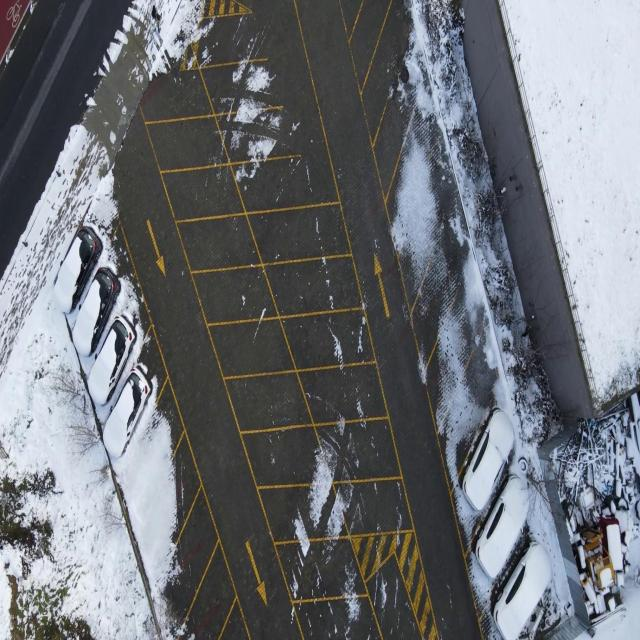p3rson: (150, 2, 162, 36)
